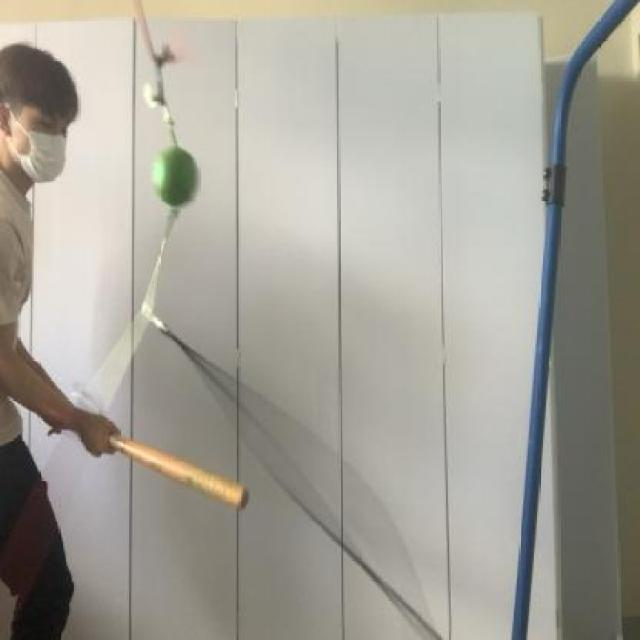baseball: (149, 139, 203, 219)
